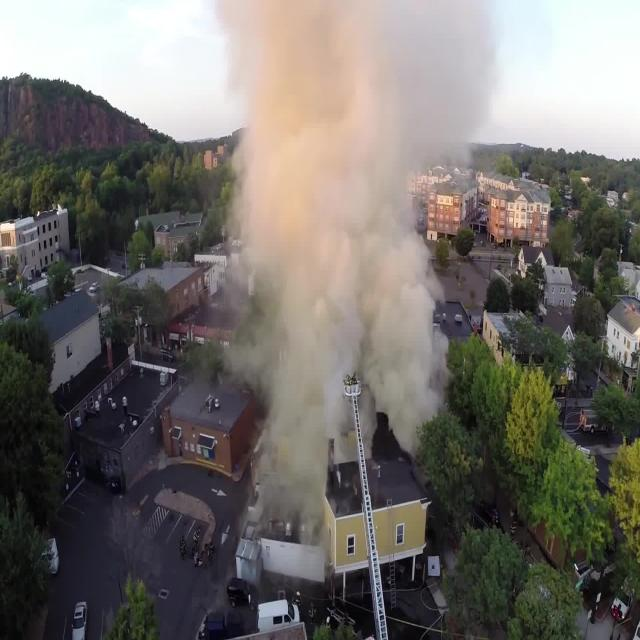Smoke: (254, 32, 418, 424)
